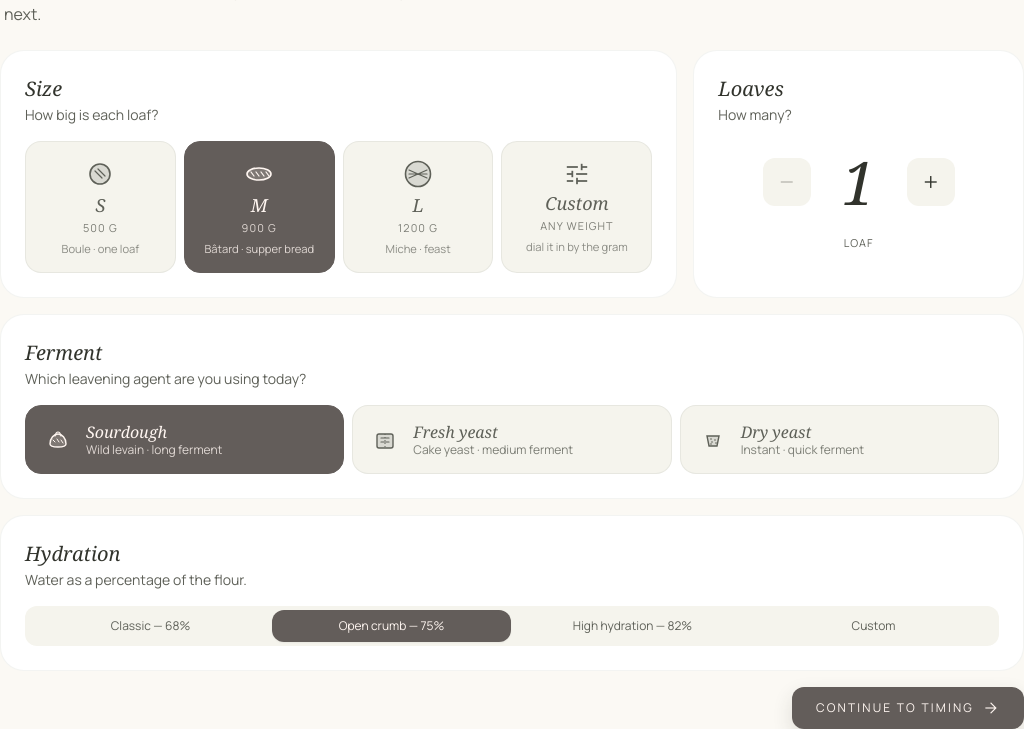
Two-step planning flag: Back returns to setup with values preserved › Edit setup restores setup controls
(page scrolled)
Click the button "Continue to timing" at point(908, 708), box [792,687,1023,728]
(page scrolled)
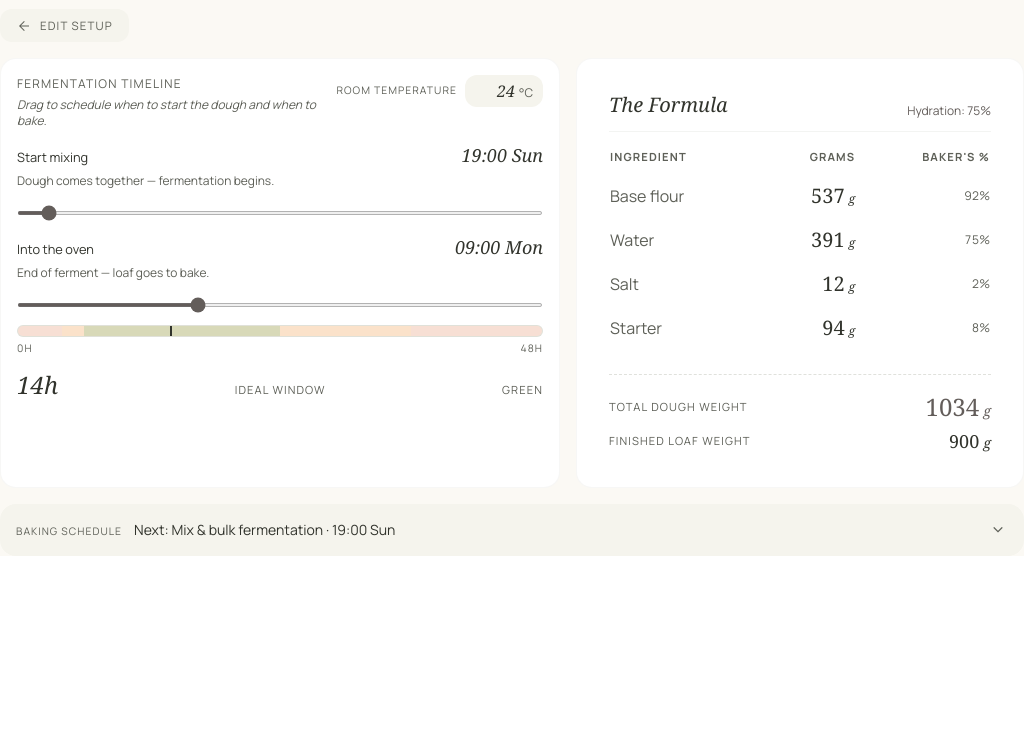
Click the button "Edit setup" at point(64, 26), box [0,9,129,42]
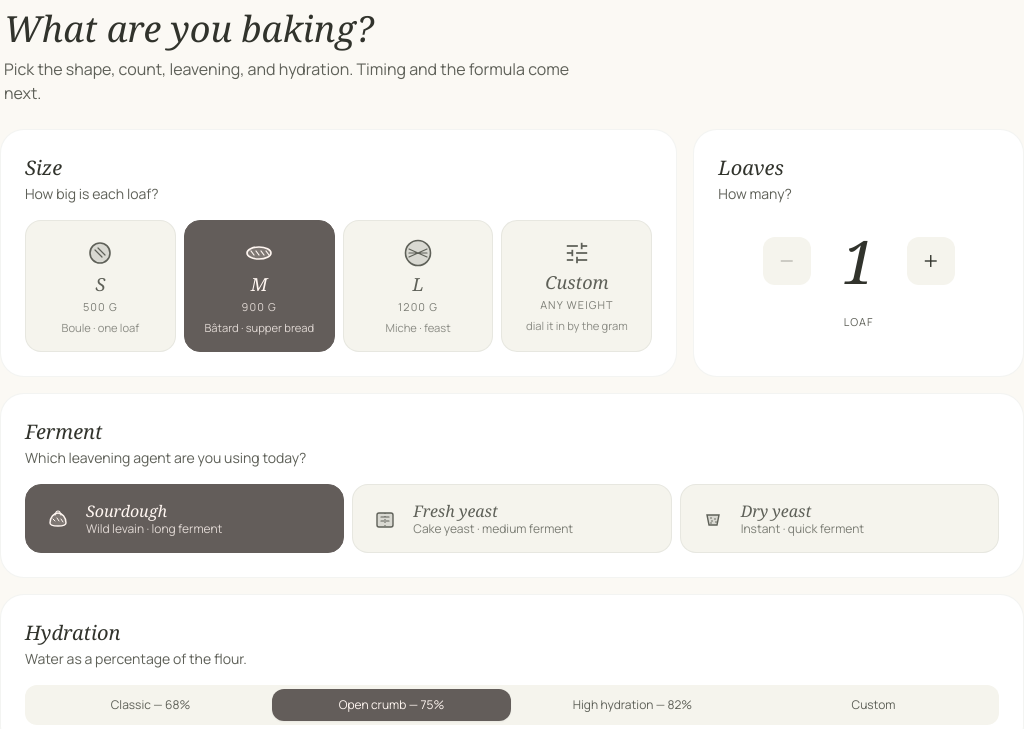
Now the element named "finished weight" is shown, box [25,220,652,352]
